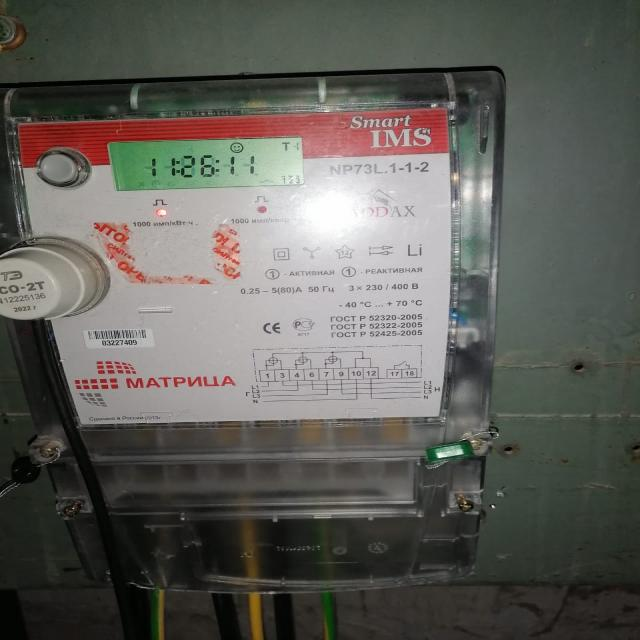Display: (109, 135, 309, 191)
meter_matrica: (16, 106, 453, 433), (83, 326, 157, 353)
